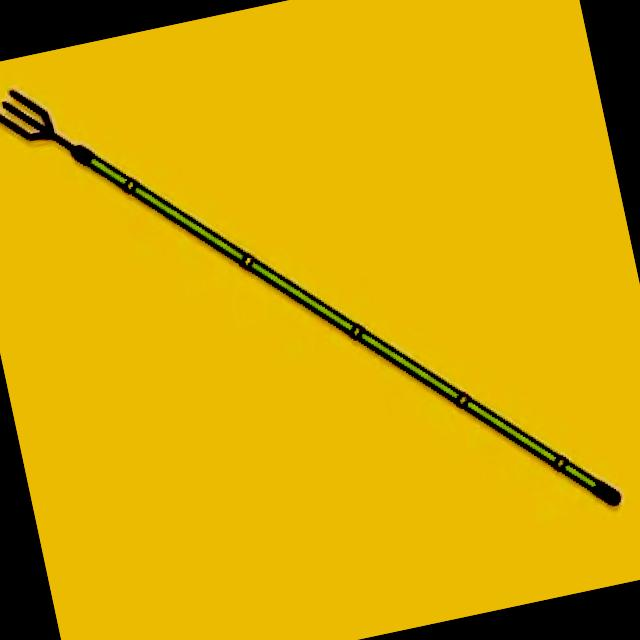spear: (0, 0, 640, 638)
